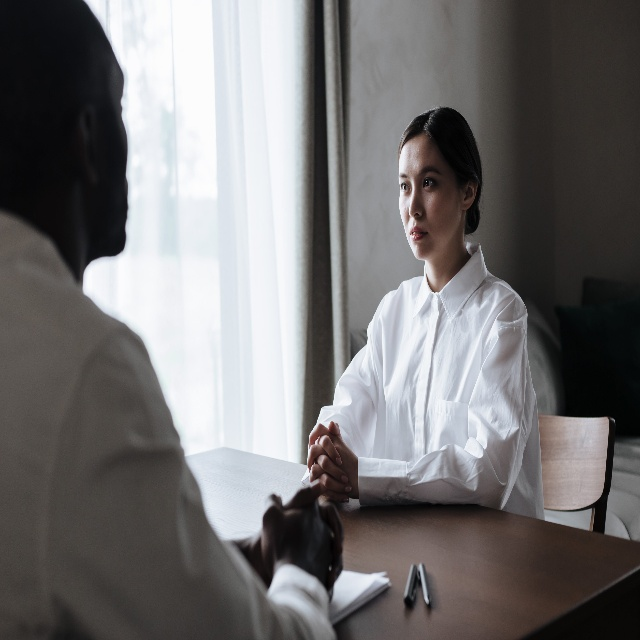Sin_guantes: (260, 482, 345, 591), (260, 488, 336, 599), (307, 418, 357, 507), (306, 417, 352, 507)
